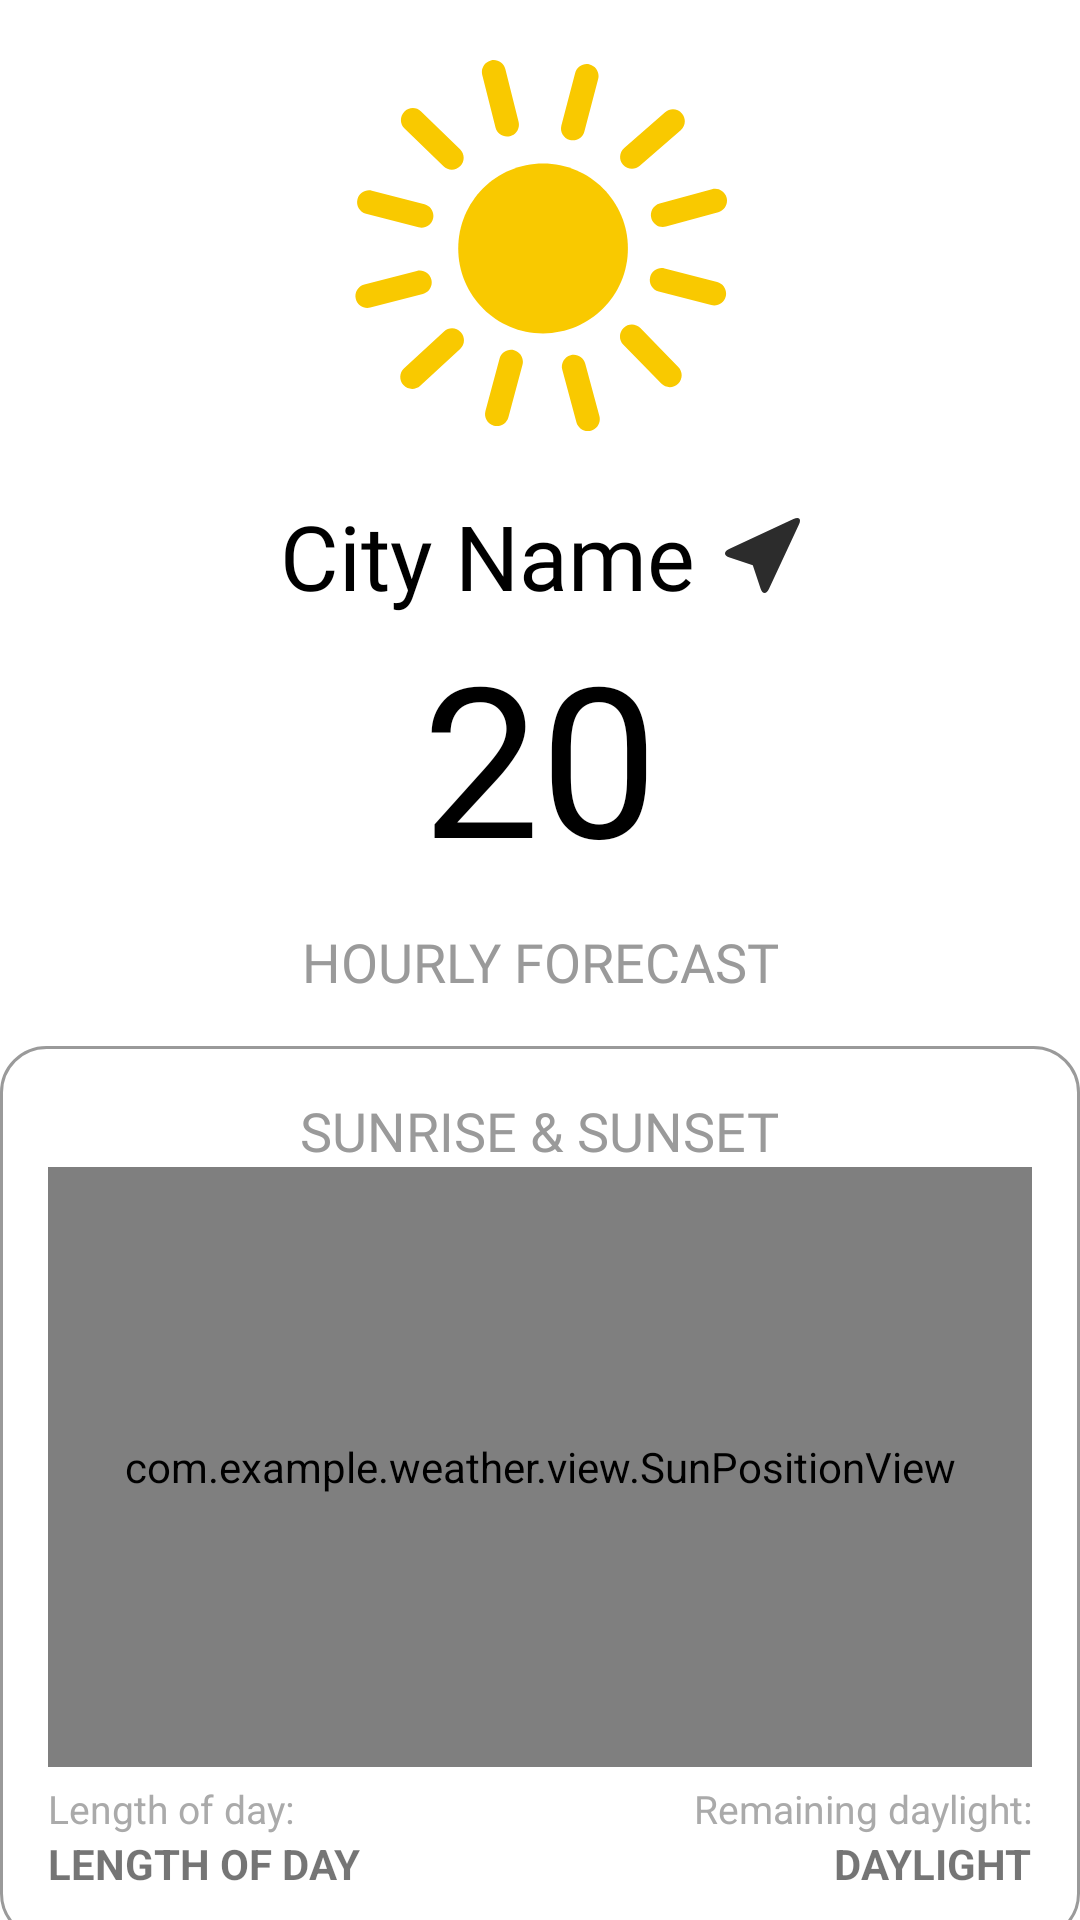

Icon bounding boxes for this 1080px x 1920px phone screenshot, format [x1=x1, y1=y1, x2=x2, y2=y2]:
geo pos: [x1=725, y1=518, x2=800, y2=593]
